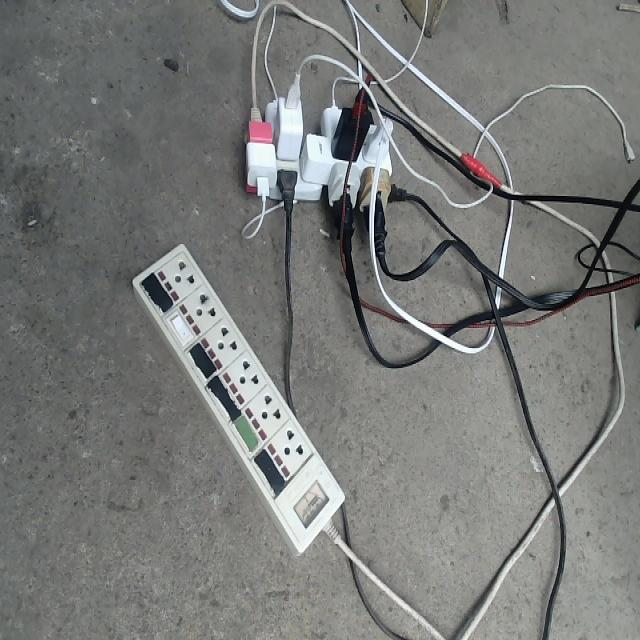-: (245, 74, 410, 258)
